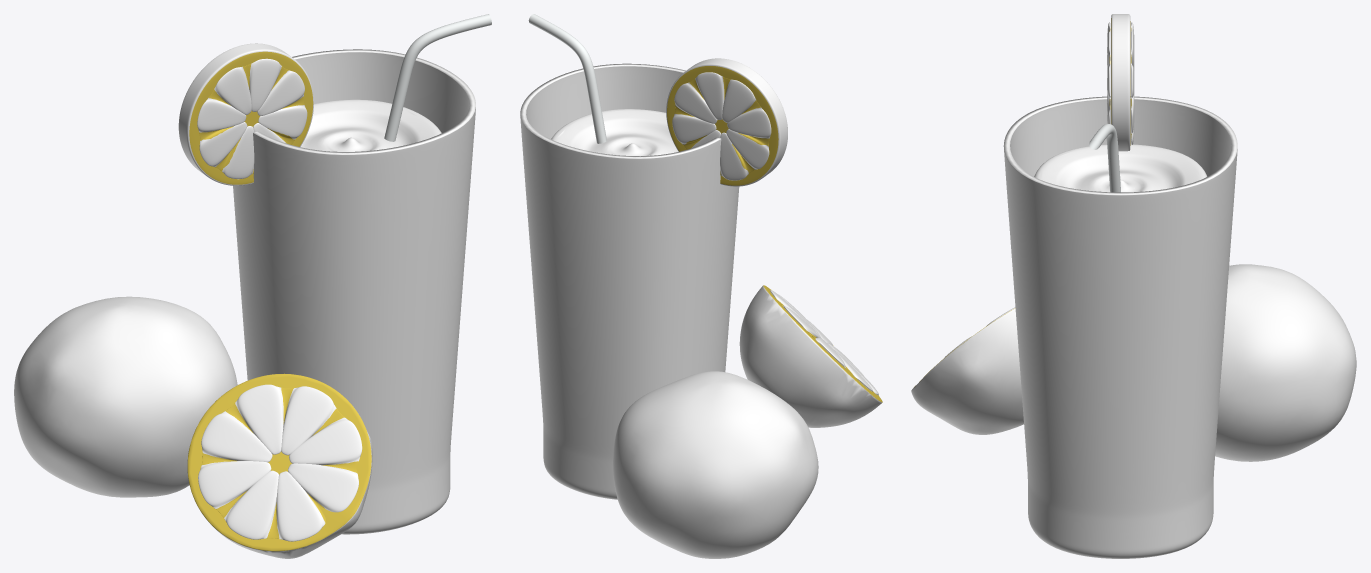
Rendered from juice-3d-animated-icon-369052021244.glb.
The picture shows the model from 3 angles, left to right: view 1: azimuth 30°, elevation 25°; view 2: azimuth 150°, elevation 25°; view 3: azimuth 270°, elevation 25°; orthographic projection. The views are drawn at different scales.
Visible parts, largest first — view 1: Cube, Sphere.001, Cylinder.002, Cylinder.001, Sphere, Cube.002, Cylinder, NurbsPath; view 2: Cube, Sphere.001, Sphere, Cylinder.001, Cube.002, Cylinder, NurbsPath, Cylinder.002; view 3: Cube, Sphere.001, Sphere, Cube.002, Cylinder, NurbsPath, Cylinder.001.
Part boxes in pixels (bbox=[...]): Cube: bbox=[233, 49, 475, 534]; Sphere.001: bbox=[14, 296, 237, 497]; Cylinder.002: bbox=[198, 384, 362, 541]; Cylinder.001: bbox=[197, 58, 307, 179]; Sphere: bbox=[187, 373, 372, 558]; Cube.002: bbox=[300, 99, 441, 151]; Cylinder: bbox=[178, 43, 313, 185]; NurbsPath: bbox=[384, 14, 491, 141]; Cube: bbox=[520, 63, 739, 499]; Sphere.001: bbox=[613, 371, 818, 558]; Sphere: bbox=[739, 285, 882, 427]; Cylinder.001: bbox=[672, 72, 771, 180]; Cube.002: bbox=[551, 109, 678, 156]; Cylinder: bbox=[666, 58, 787, 186]; NurbsPath: bbox=[528, 14, 606, 143]; Cylinder.002: bbox=[770, 290, 878, 395]; Cube: bbox=[1003, 96, 1237, 558]; Sphere.001: bbox=[1215, 264, 1356, 461]; Sphere: bbox=[911, 308, 1023, 434]; Cube.002: bbox=[1034, 144, 1207, 192]; Cylinder: bbox=[1111, 14, 1130, 151]; NurbsPath: bbox=[1089, 123, 1120, 192]; Cylinder.001: bbox=[1107, 22, 1134, 144].
Size of the model in its own units: 2.41 by 2.88 by 2.54.
